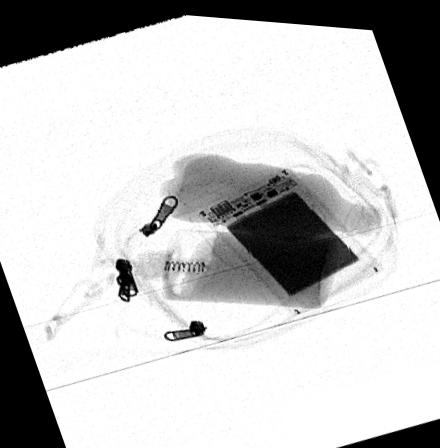Powerbank: (194, 160, 386, 311)
